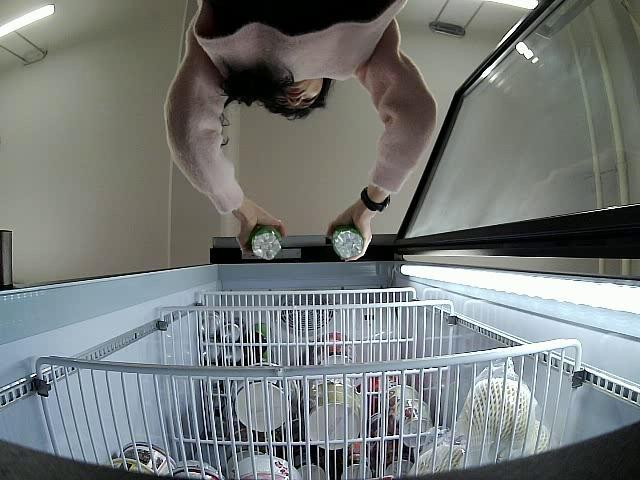18_trevi: (249, 222, 287, 262), (326, 224, 362, 261)
